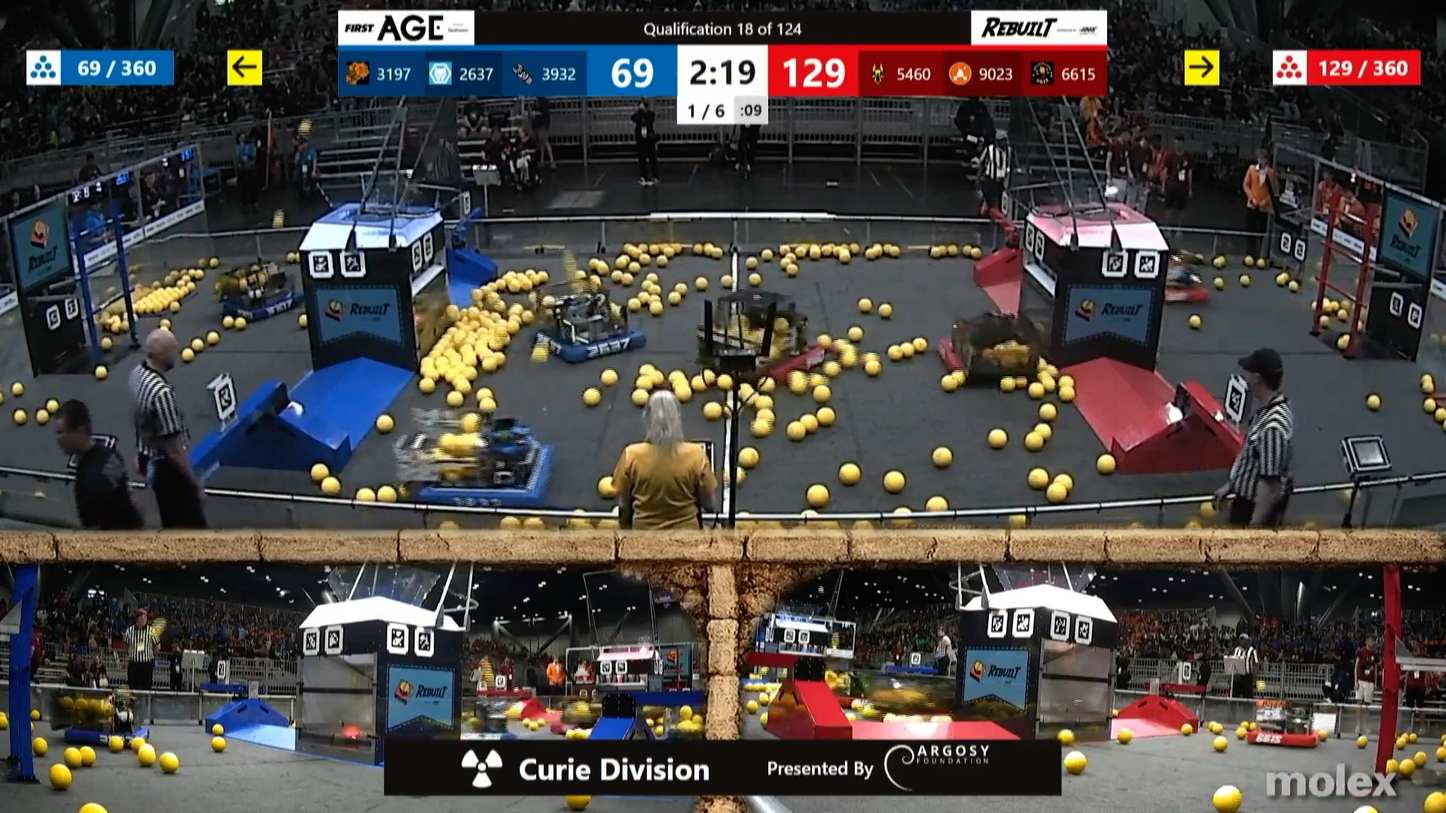bumpers: (410, 441, 562, 513), (526, 319, 651, 366), (699, 337, 827, 378), (59, 713, 161, 755), (213, 285, 316, 324), (1238, 718, 1329, 755), (1134, 275, 1216, 306)
